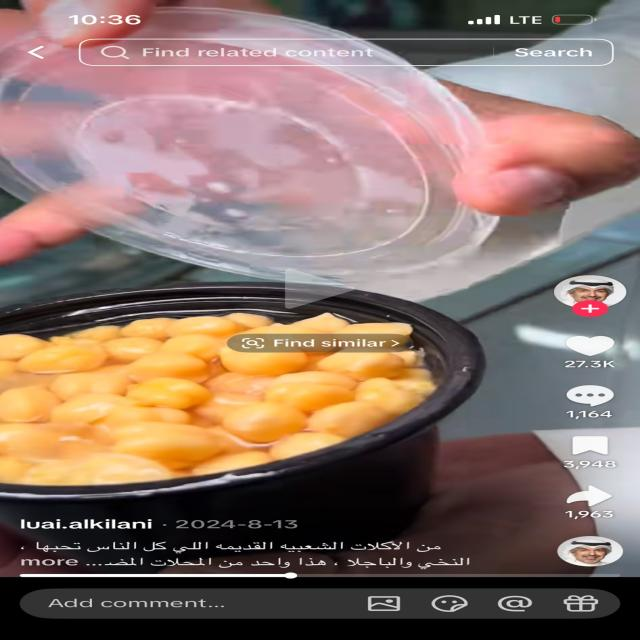Nakhi: (0, 295, 445, 499)
